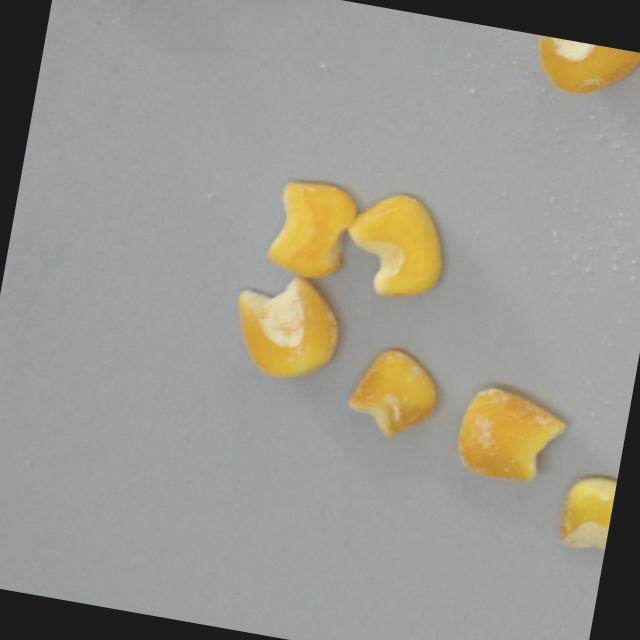dañado: (219, 262, 351, 392), (445, 378, 573, 493), (337, 339, 449, 446), (523, 33, 640, 108), (547, 468, 617, 578)
no_canjicado: (336, 183, 456, 307), (258, 170, 361, 285)
